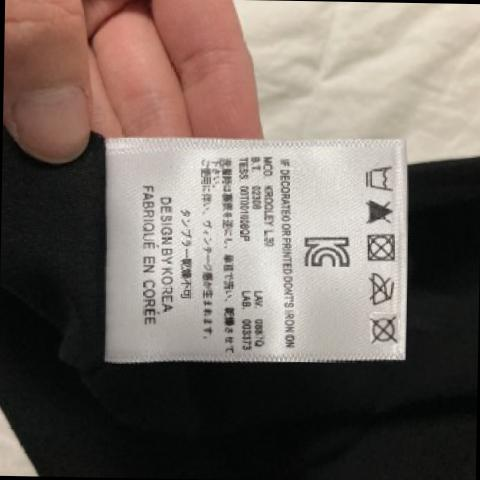DN_bleach: (365, 197, 397, 225)
DN_dry_clean: (368, 314, 401, 346)
DN_iron: (370, 273, 398, 307)
DN_tumble_dry: (365, 232, 400, 263)
machine_wash: (362, 160, 396, 194)
